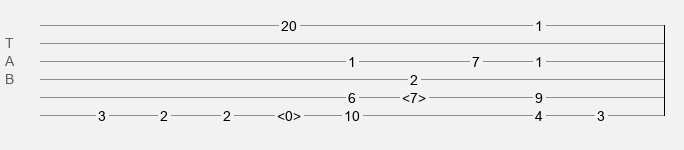1: (348, 54, 356, 64), (535, 18, 543, 28), (535, 54, 543, 64)
10: (344, 108, 360, 118)
2: (160, 108, 168, 118), (223, 108, 231, 118), (410, 72, 418, 82)
20: (281, 18, 297, 28)
3: (98, 108, 106, 118), (597, 108, 605, 118)
4: (535, 108, 543, 118)
6: (348, 90, 356, 100)
7: (472, 54, 480, 64)
9: (535, 90, 543, 100)
harmonic: (277, 108, 301, 118), (402, 90, 426, 100)
